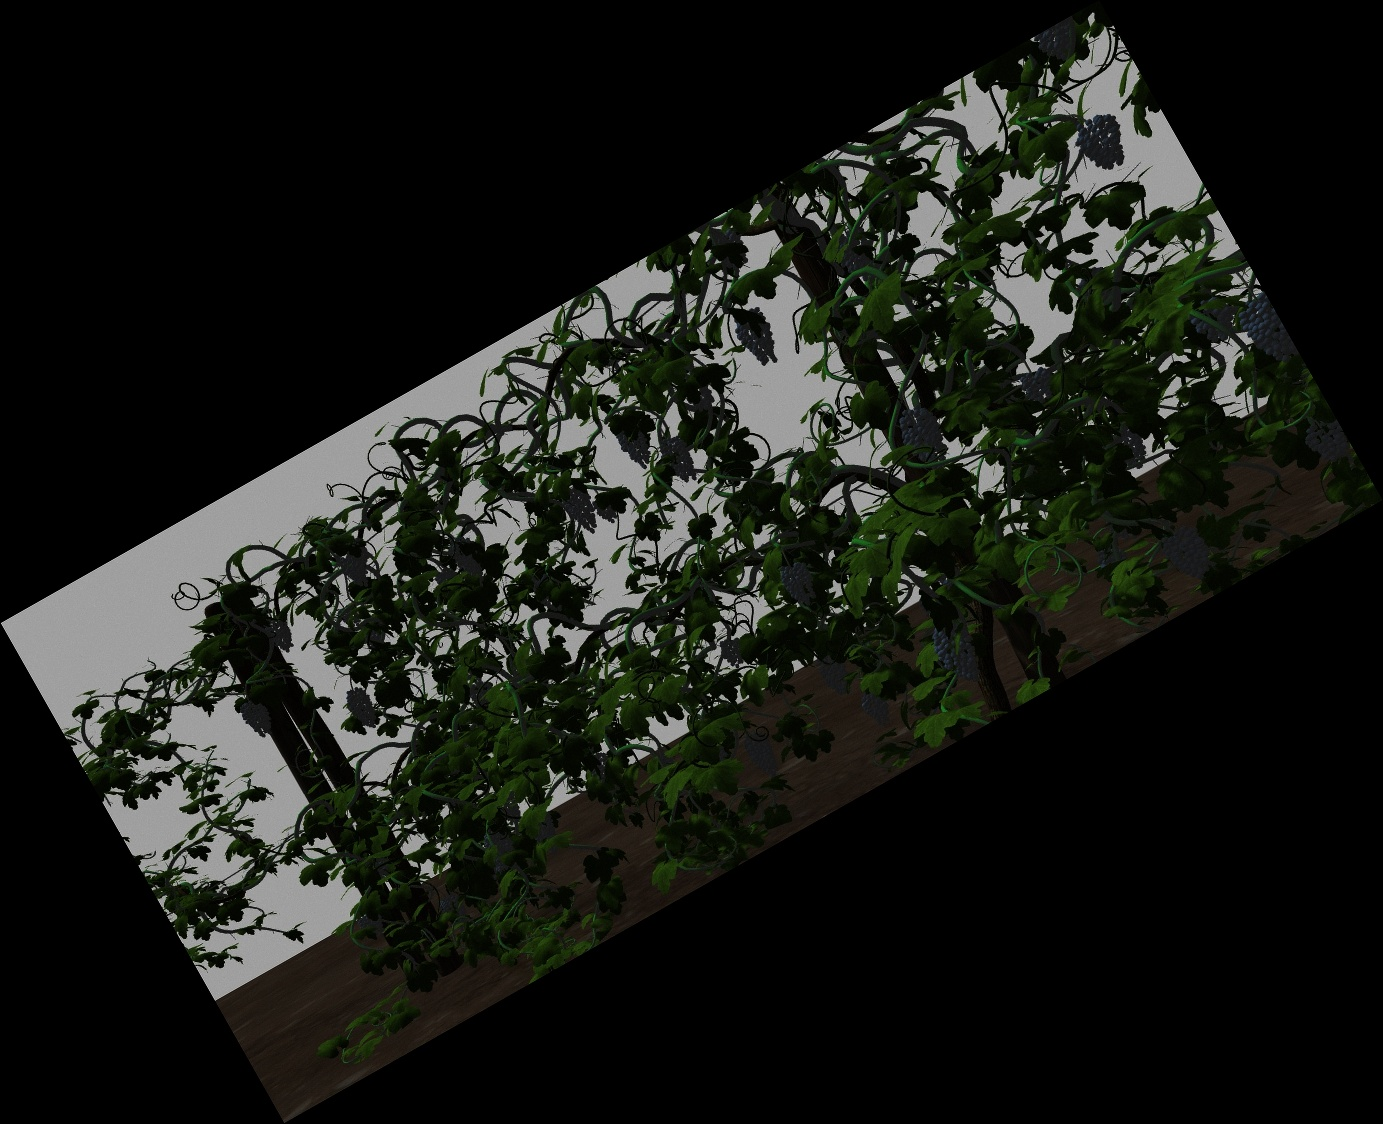grape: (1247, 302, 1286, 367), (1169, 526, 1208, 581), (1083, 118, 1124, 169), (939, 624, 974, 682), (906, 406, 941, 461), (742, 311, 774, 364), (1196, 304, 1233, 341), (1310, 422, 1343, 462), (569, 487, 596, 534), (1041, 28, 1083, 58), (622, 420, 648, 468), (786, 562, 814, 604), (750, 732, 776, 776), (667, 438, 693, 483), (487, 830, 515, 869), (350, 689, 375, 727), (823, 657, 847, 696), (1025, 370, 1055, 400), (247, 701, 271, 737), (536, 815, 558, 853), (866, 694, 890, 727), (455, 540, 477, 575), (269, 617, 291, 651), (344, 556, 364, 590), (361, 913, 384, 939), (724, 639, 744, 668), (444, 893, 464, 922), (501, 794, 521, 822), (347, 543, 368, 567)
